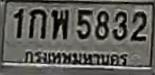1: (13, 8, 23, 37)
2: (130, 11, 146, 40)
3: (112, 10, 126, 40)
5: (76, 9, 92, 38)
8: (94, 10, 108, 39)
A01: (28, 8, 46, 38)
A30: (51, 9, 68, 38)
BKK: (21, 47, 130, 68)
